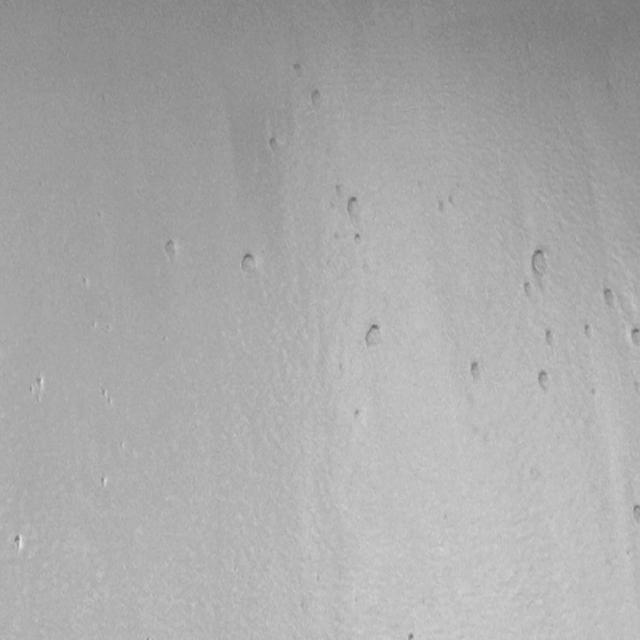pin holes: (529, 244, 553, 278), (362, 320, 386, 352), (598, 285, 622, 315), (344, 194, 366, 224), (162, 236, 182, 265), (238, 250, 260, 276), (466, 358, 484, 385), (32, 374, 51, 398), (536, 369, 554, 393), (308, 88, 327, 110), (541, 327, 559, 349), (519, 280, 537, 302), (266, 134, 282, 153), (291, 61, 307, 79), (582, 322, 596, 342), (98, 472, 112, 491), (629, 324, 640, 347), (13, 534, 26, 552), (351, 230, 364, 248), (98, 387, 111, 405), (351, 407, 365, 423), (630, 502, 640, 524), (80, 274, 92, 290), (436, 194, 444, 217), (447, 193, 457, 210), (588, 387, 600, 401), (405, 629, 421, 639), (631, 377, 638, 398)
